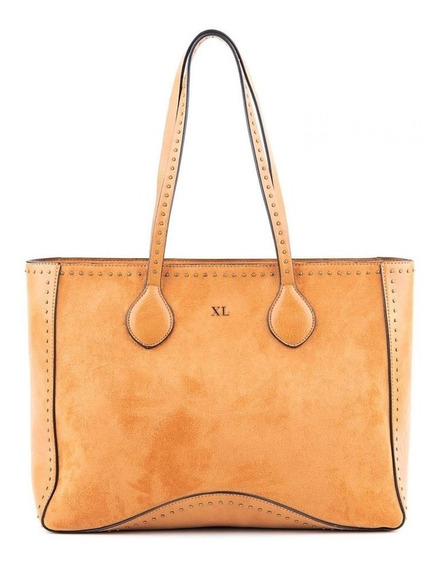cartera: (21, 27, 419, 537)
